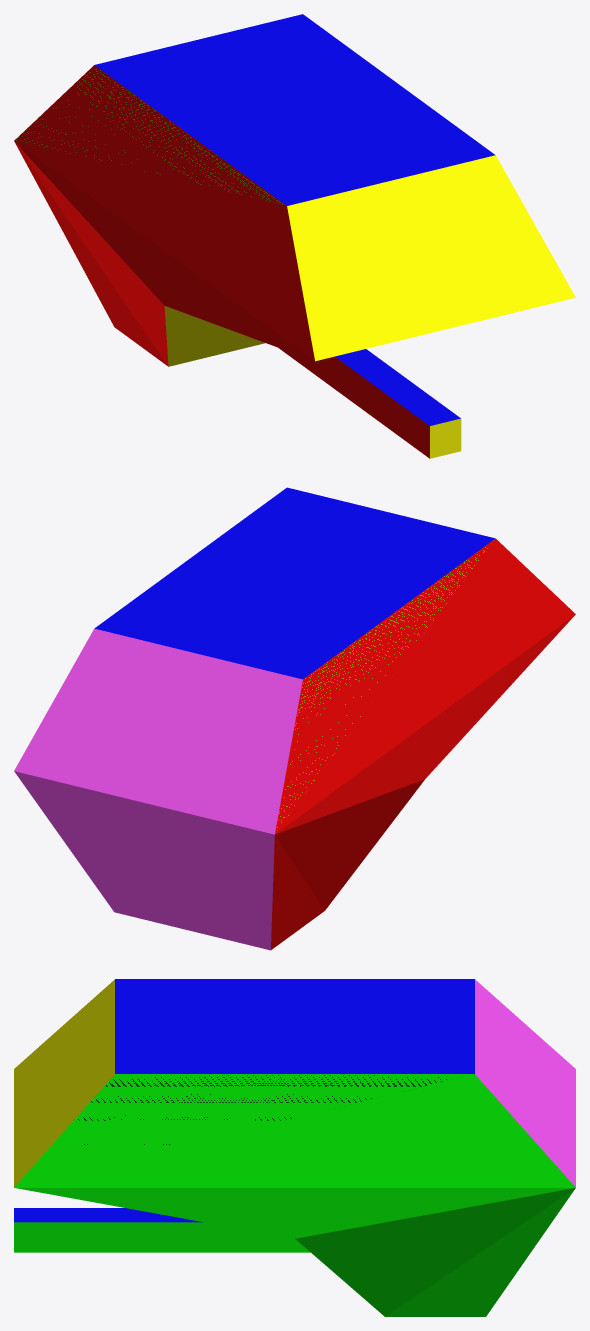
File: heavytank1.obj
The picture shows the model from 3 angles, top to bottom: view 1: azimuth 30°, elevation 25°; view 2: azimuth 150°, elevation 25°; view 3: azimuth 270°, elevation 25°; orthographic projection. The views are drawn at different scales.
Parts seen in each view (by area): view 1: Cube; view 2: Cube; view 3: Cube.
Boxes of the visible parts, x1,y1,x2,y2 form: Cube: (14, 14, 575, 458); Cube: (14, 487, 575, 950); Cube: (14, 979, 575, 1316).
Bounding box in the file's own units: 0.5 × 0.5 × 1.
1 material, 1 textured.
